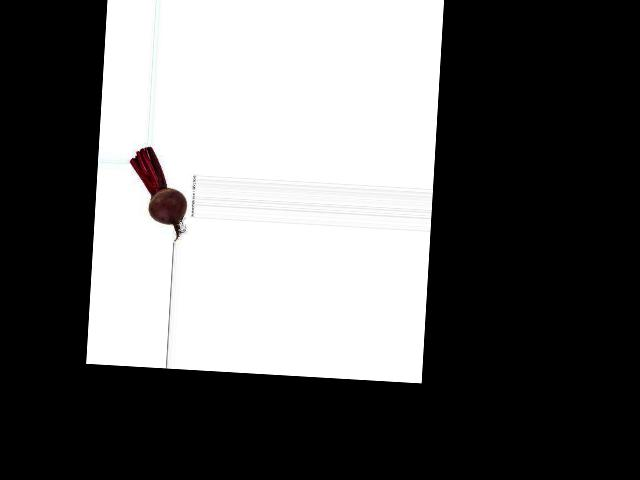beet: (126, 145, 190, 241)
